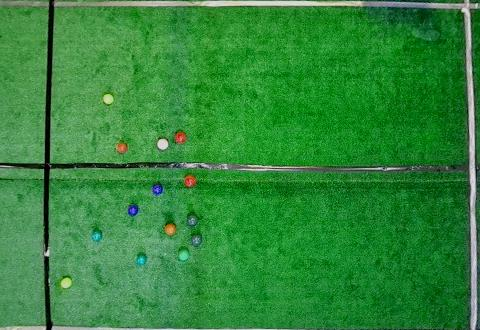blue: (128, 205, 137, 215), (153, 184, 162, 193)
green: (187, 215, 198, 226), (92, 230, 102, 242), (192, 234, 202, 245), (178, 249, 188, 260), (137, 254, 146, 264)
red: (175, 131, 186, 143), (157, 139, 168, 150), (165, 223, 176, 234), (185, 176, 195, 187), (118, 143, 127, 153)
vline: (1, 0, 55, 329), (461, 0, 479, 330)
white: (461, 7, 467, 13)
yellow: (61, 277, 71, 287), (104, 94, 114, 104)
